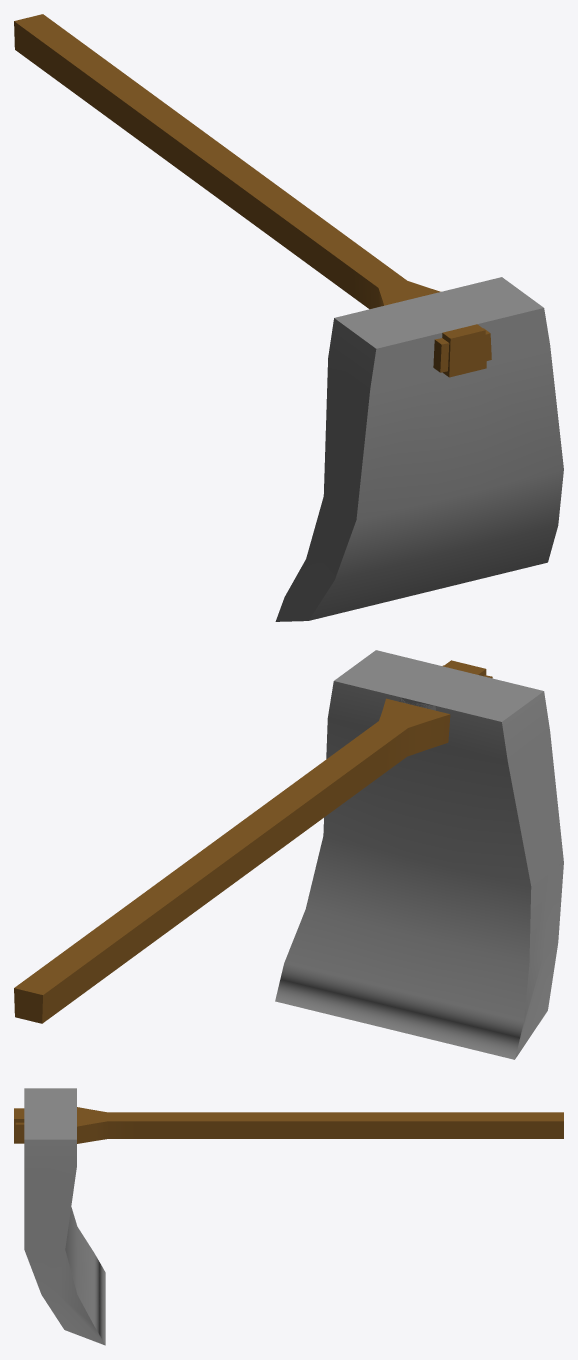
The model's file is jobb.fbx.
The picture shows the model from 3 angles, top to bottom: view 1: azimuth 30°, elevation 25°; view 2: azimuth 150°, elevation 25°; view 3: azimuth 270°, elevation 25°; orthographic projection. The views are drawn at different scales.
Parts seen in each view (by area): view 1: pCube80; view 2: pCube80; view 3: pCube80.
Boxes of the visible parts, bbox=[...] form: pCube80: bbox=[14, 14, 563, 621]; pCube80: bbox=[14, 650, 563, 1059]; pCube80: bbox=[14, 1088, 563, 1345].
Size of the model in its own units: 29.78 by 37.07 by 94.68.
